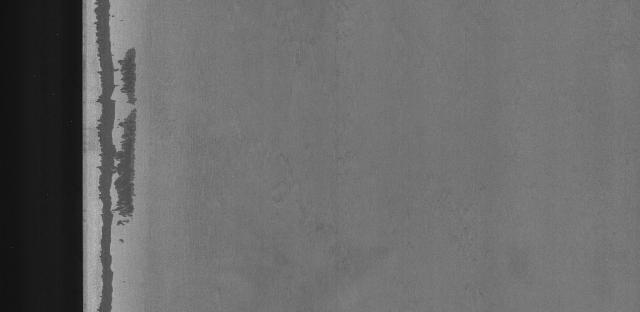oil_spot: (90, 1, 154, 312)
